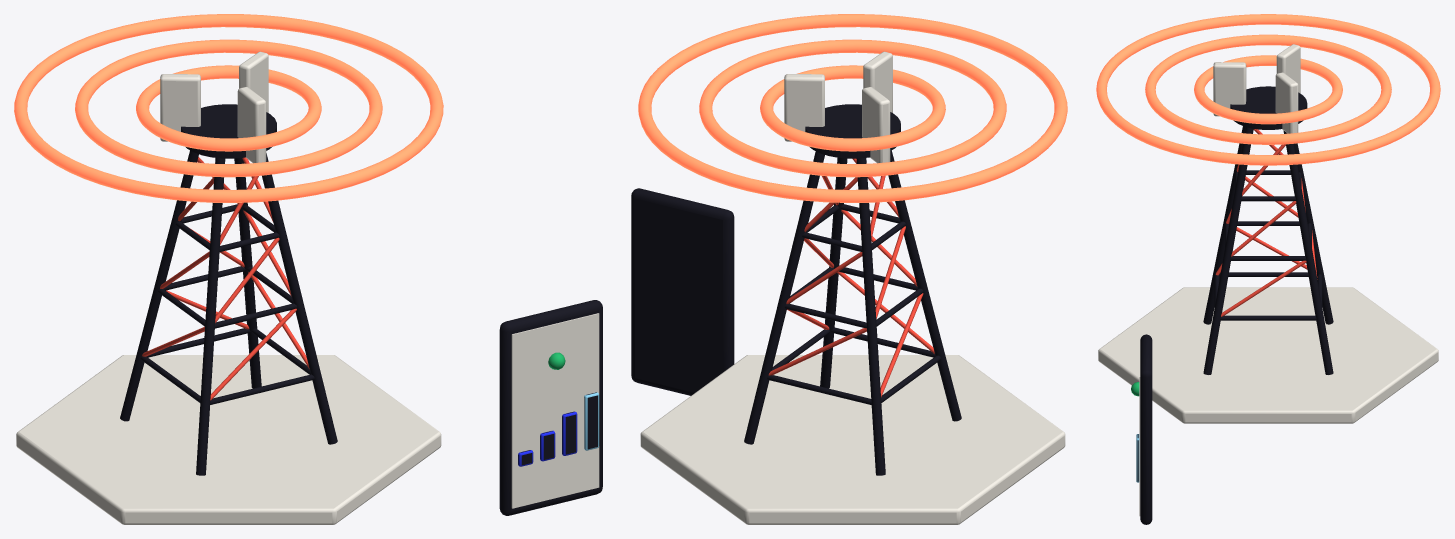
Rendered from tower.glb.
3 views of the same model, side by side, from view 1: azimuth 30°, elevation 25°; view 2: azimuth 150°, elevation 25°; view 3: azimuth 270°, elevation 25° (orthographic). The views are drawn at different scales.
Parts seen in each view (by area): view 1: base, bob_phone, mast, pulse_wave2, pulse_wave1, panels, pulse_wave0, top; view 2: base, bob_phone, mast, pulse_wave2, pulse_wave1, panels, pulse_wave0, top; view 3: base, mast, pulse_wave2, pulse_wave1, panels, pulse_wave0, bob_phone, top.
Part boxes in pixels (<box>): base: <box>16,355,441,524</box>; bob_phone: <box>499,300,602,515</box>; mast: <box>120,150,337,475</box>; pulse_wave2: <box>14,14,443,202</box>; pulse_wave1: <box>75,39,382,177</box>; panels: <box>160,51,268,163</box>; pulse_wave0: <box>136,65,321,151</box>; top: <box>181,104,276,158</box>; base: <box>640,355,1065,524</box>; bob_phone: <box>631,188,734,395</box>; mast: <box>744,150,961,475</box>; pulse_wave2: <box>638,14,1067,202</box>; pulse_wave1: <box>699,39,1006,177</box>; panels: <box>784,51,892,163</box>; pulse_wave0: <box>760,65,945,151</box>; top: <box>805,104,900,158</box>; base: <box>1098,287,1438,423</box>; mast: <box>1203,126,1333,374</box>; pulse_wave2: <box>1096,14,1440,165</box>; pulse_wave1: <box>1145,34,1391,144</box>; panels: <box>1213,44,1300,133</box>; pulse_wave0: <box>1194,55,1342,124</box>; bob_phone: <box>1131,334,1152,524</box>; top: <box>1230,86,1307,129</box>.
Bounding box in the file's own units: 10.98 × 9.4 × 8.46.
